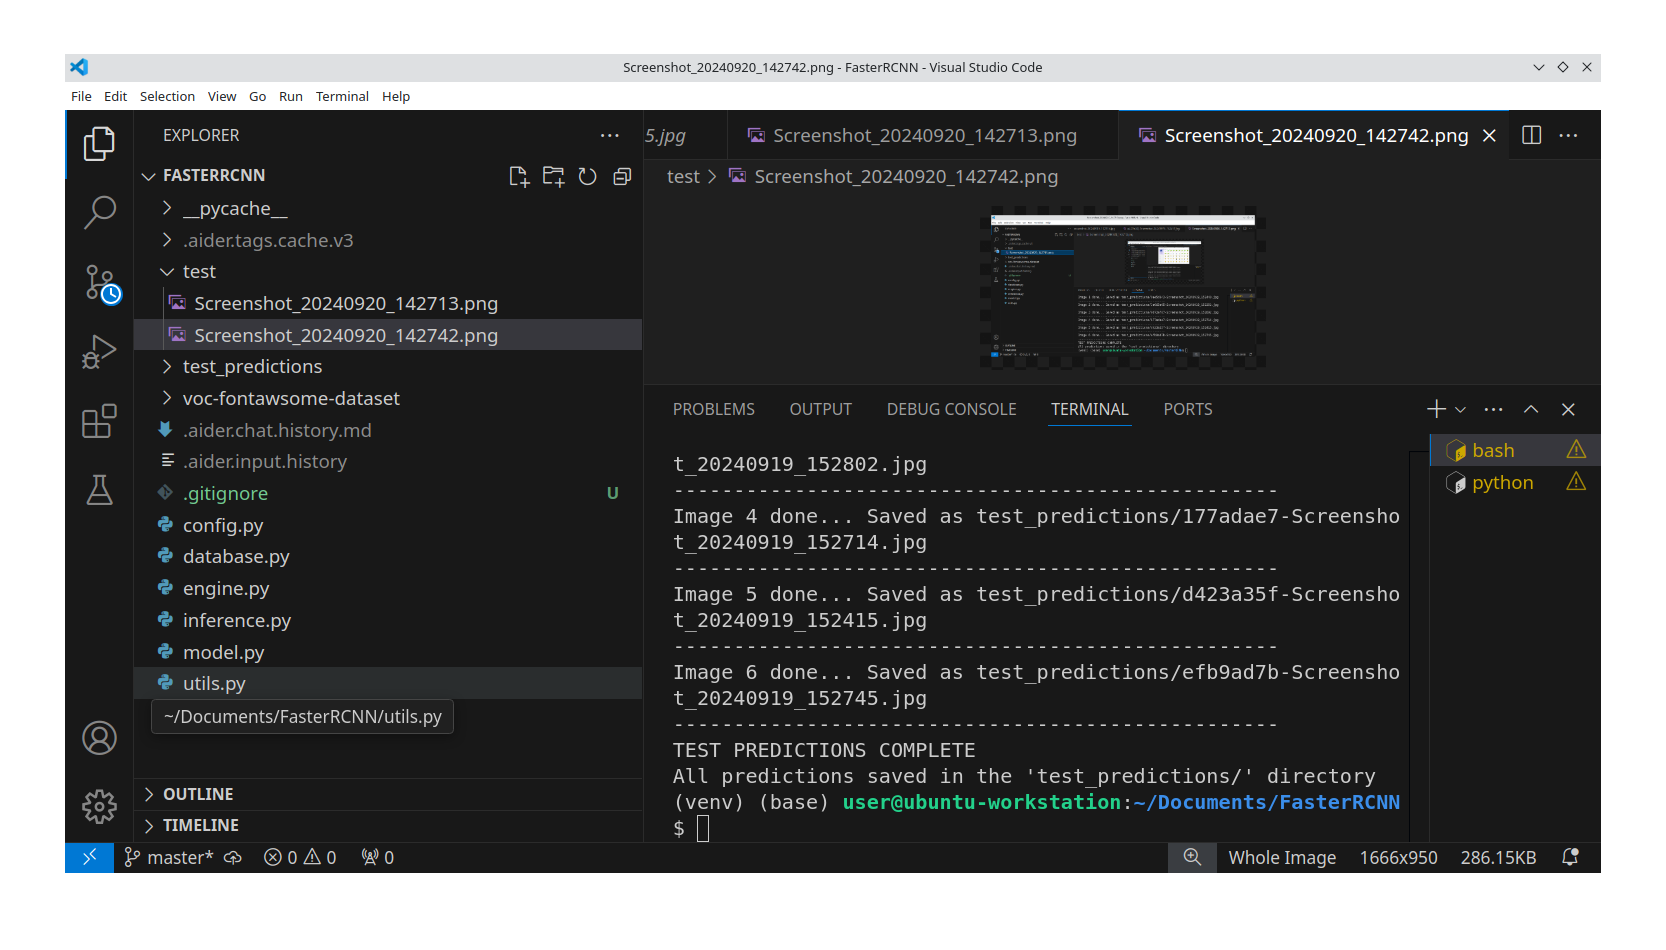branch: (76, 248, 129, 315)
file: (76, 118, 125, 168)
flask: (71, 453, 129, 515)
search: (73, 179, 129, 238)
setting: (73, 781, 125, 829)
user: (68, 705, 129, 763)
